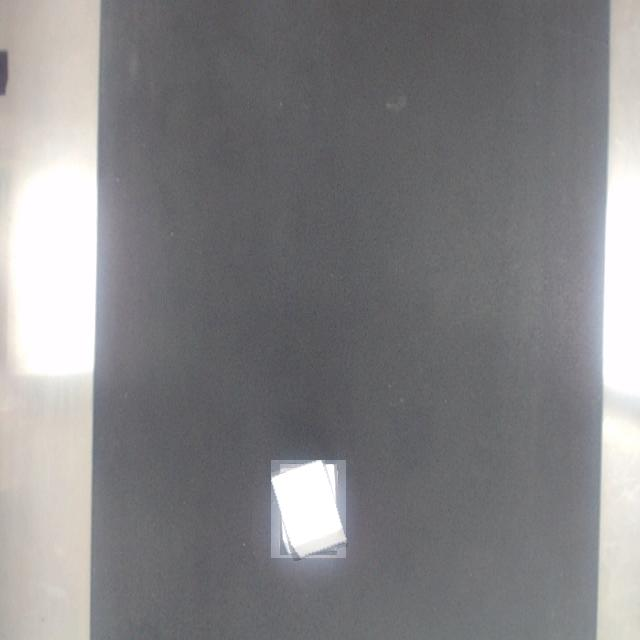Blanco: (271, 460, 346, 558)
